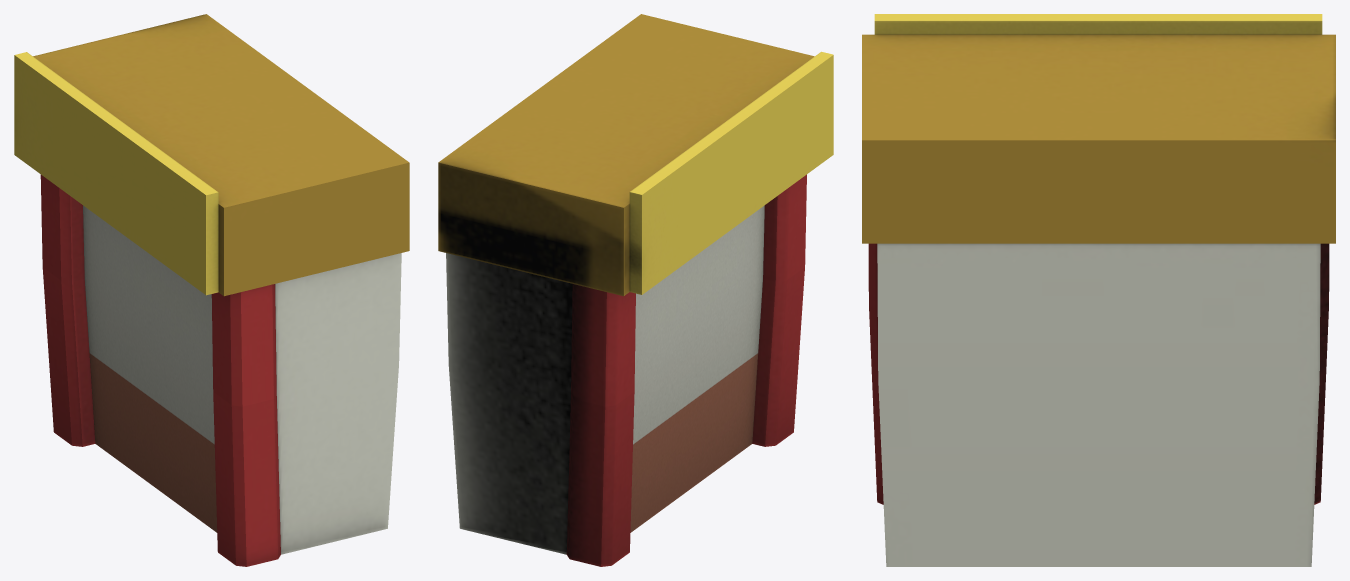
Rendered from FS_RedPillarStore.fbx.
3 renders of one model, left to right at view 1: azimuth 30°, elevation 25°; view 2: azimuth 150°, elevation 25°; view 3: azimuth 270°, elevation 25°, orthographic. The views are drawn at different scales.
Visible parts, largest first — view 1: shop5, roof5, pillars5, sign5; view 2: shop5, roof5, pillars5, sign5; view 3: shop5, roof5, sign5, pillars5.
Part boxes in pixels (x1=…): shop5: x1=83, y1=205, x2=401, y2=554; roof5: x1=33, y1=14, x2=409, y2=296; pillars5: x1=40, y1=174, x2=280, y2=566; sign5: x1=14, y1=52, x2=218, y2=295; shop5: x1=446, y1=205, x2=764, y2=554; roof5: x1=438, y1=14, x2=814, y2=296; pillars5: x1=566, y1=174, x2=806, y2=566; sign5: x1=629, y1=51, x2=833, y2=294; shop5: x1=877, y1=243, x2=1320, y2=566; roof5: x1=862, y1=34, x2=1335, y2=243; sign5: x1=874, y1=14, x2=1322, y2=34; pillars5: x1=868, y1=243, x2=1329, y2=504.
Bounding box in the file's own units: 70.4 × 130 × 125.
Materials: 1 (1 with a texture image).
